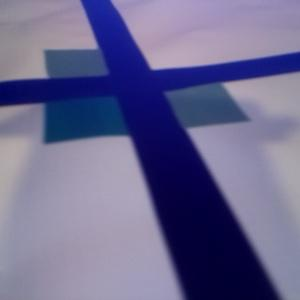bottom_left: (45, 79, 162, 140)
bottom_right: (131, 71, 249, 128)
top_left: (45, 50, 141, 97)
